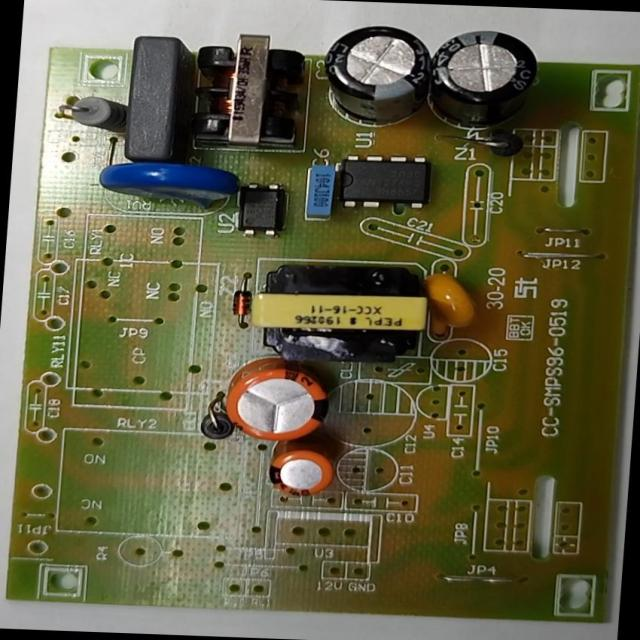Cap1: (210, 355, 346, 448)
Cap2: (258, 434, 349, 502)
Cap3: (313, 20, 444, 132)
Cap4: (414, 24, 542, 146)
MOSFET: (329, 148, 444, 216)
Mov: (88, 154, 252, 224)
Resistor: (51, 86, 132, 140)
Transformer: (240, 259, 436, 368), (181, 24, 314, 153)
